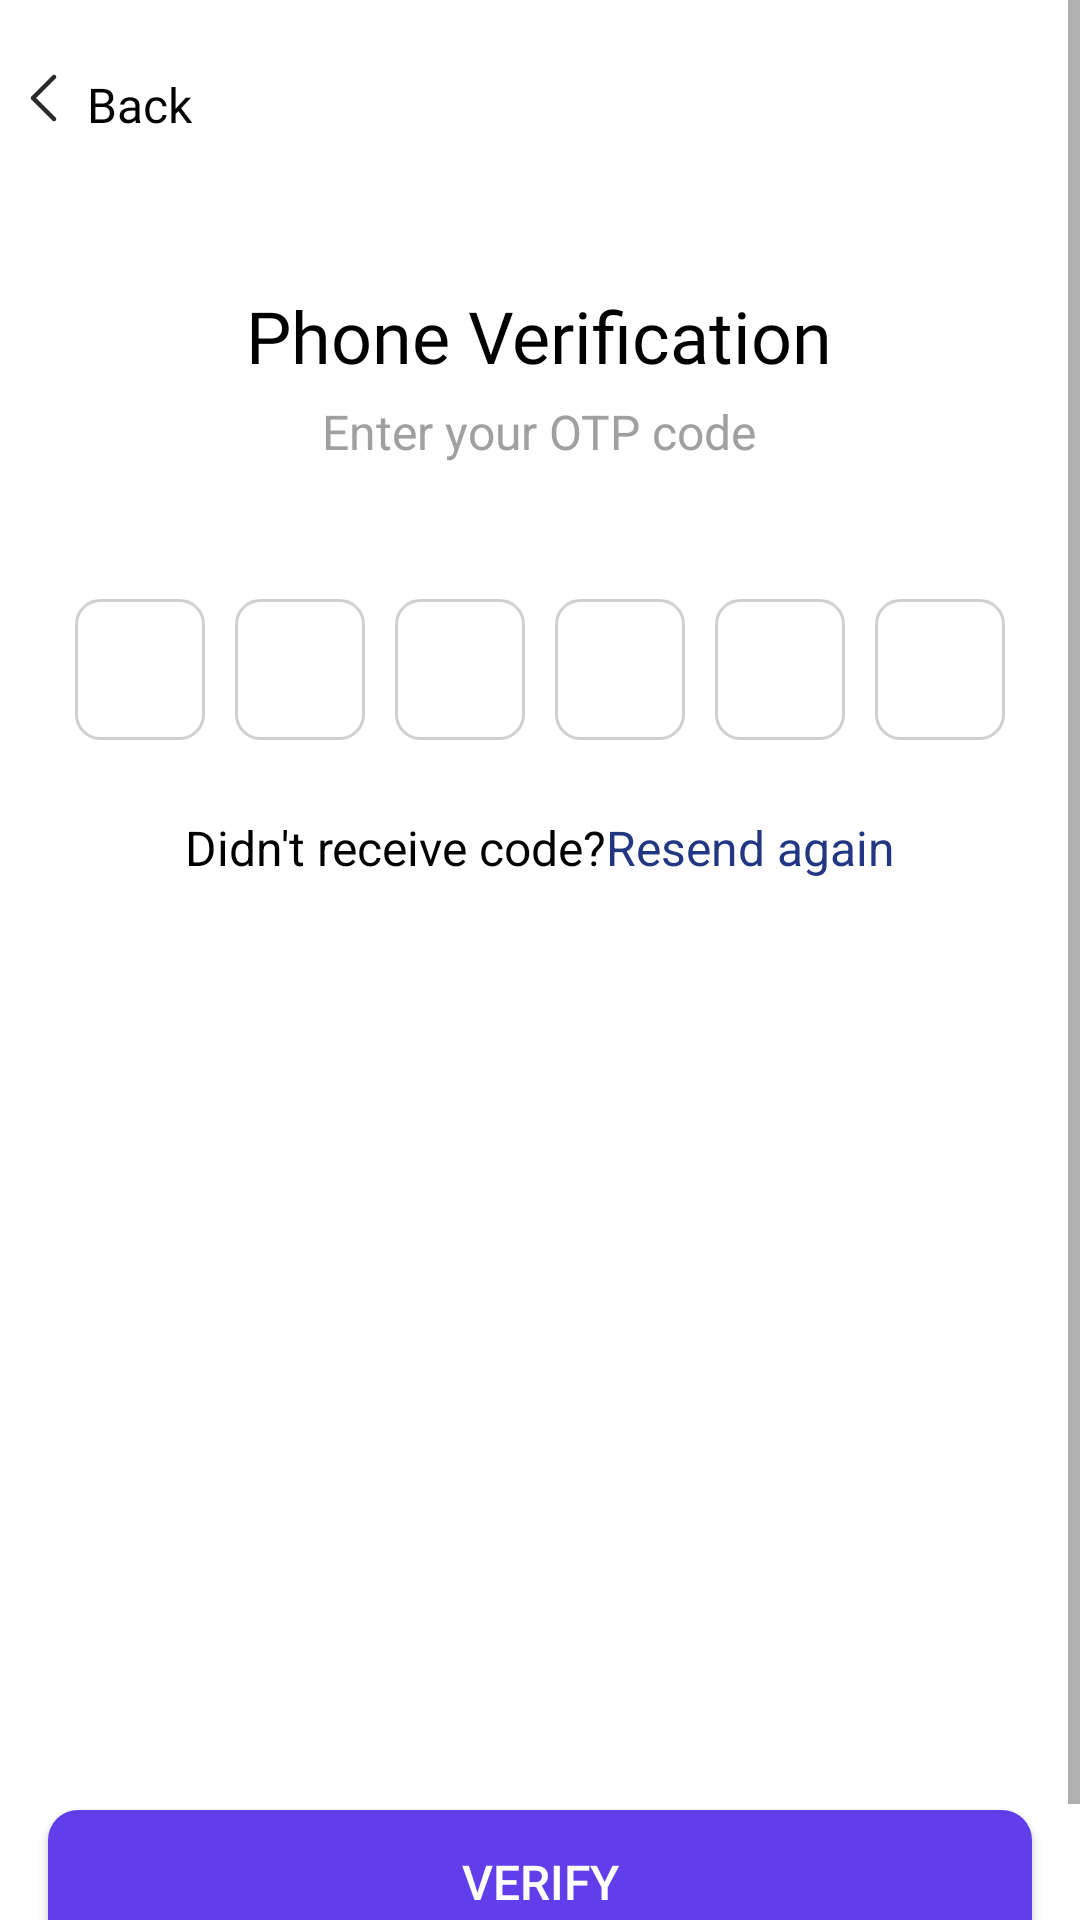

Where icons sit on this 1080 x 1920 app screen, as BBox(x1, y1, x2, y2):
angle left: BBox(30, 74, 57, 122)
